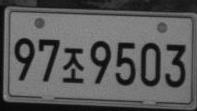0: (140, 41, 161, 87)
3: (164, 43, 186, 88)
5: (114, 41, 136, 86)
7: (37, 38, 60, 81)
9: (13, 36, 35, 81), (89, 39, 111, 84)
조: (62, 47, 84, 83)
